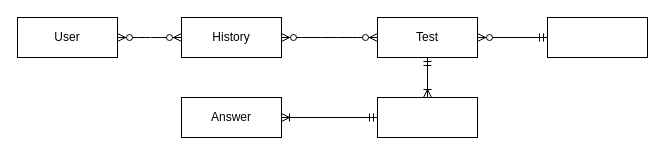
This 665x155 diagram has some shape labels left out. Each missing label, with the box of its shape:
Category: (546, 16, 648, 58)
Question: (376, 96, 478, 138)
